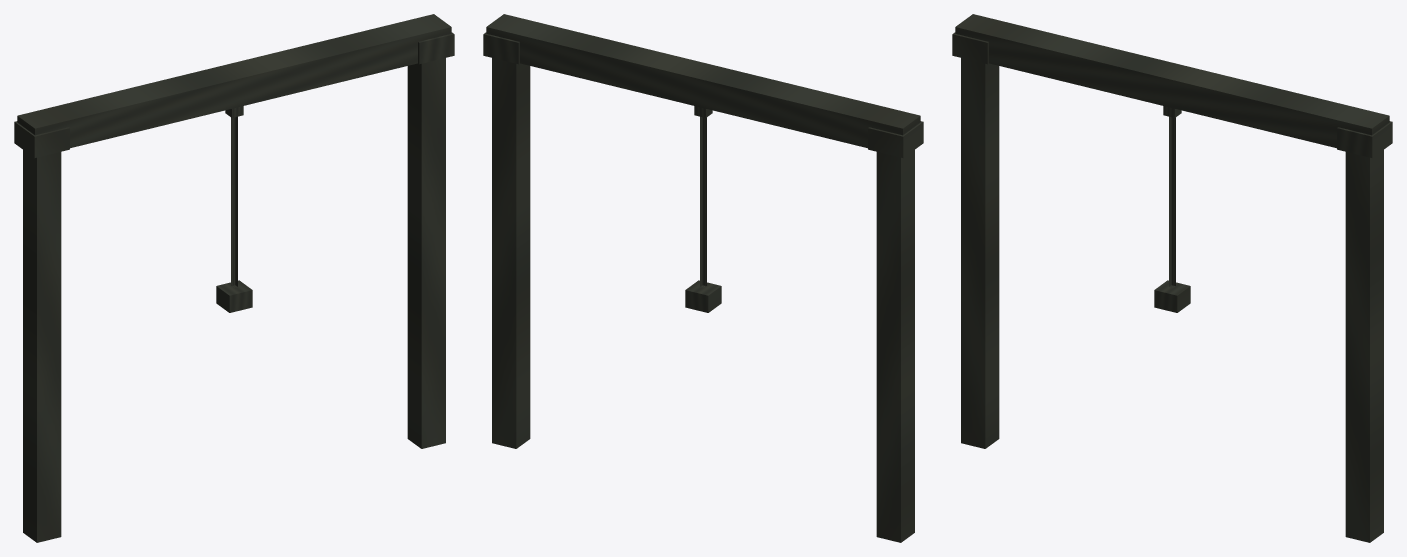
Rendered from env_crane_gantry_a.glb.
The picture shows the model from 3 angles, left to right: view 1: azimuth 30°, elevation 25°; view 2: azimuth 150°, elevation 25°; view 3: azimuth 330°, elevation 25°; orthographic projection.
Parts seen in each view (by area): view 1: env_crane_gantry_a; view 2: env_crane_gantry_a; view 3: env_crane_gantry_a.
Boxes of the visible parts, x1,y1,x2,y2 form: env_crane_gantry_a: (14, 14, 454, 542); env_crane_gantry_a: (483, 14, 923, 542); env_crane_gantry_a: (952, 14, 1392, 542).
Size of the model in its own units: 6.55 by 6.21 by 0.55.
1 material, 1 textured.
